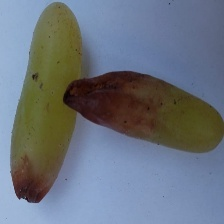grapes: (41, 21, 179, 219)
